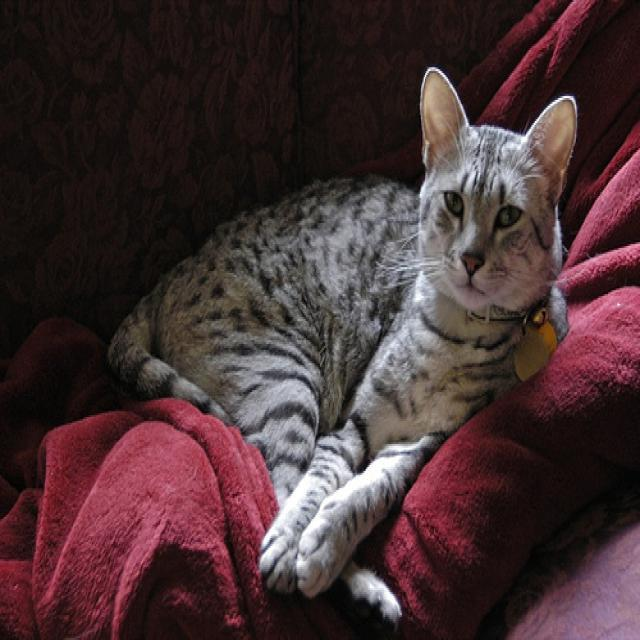Egyptian_Mau: (418, 64, 579, 335)
